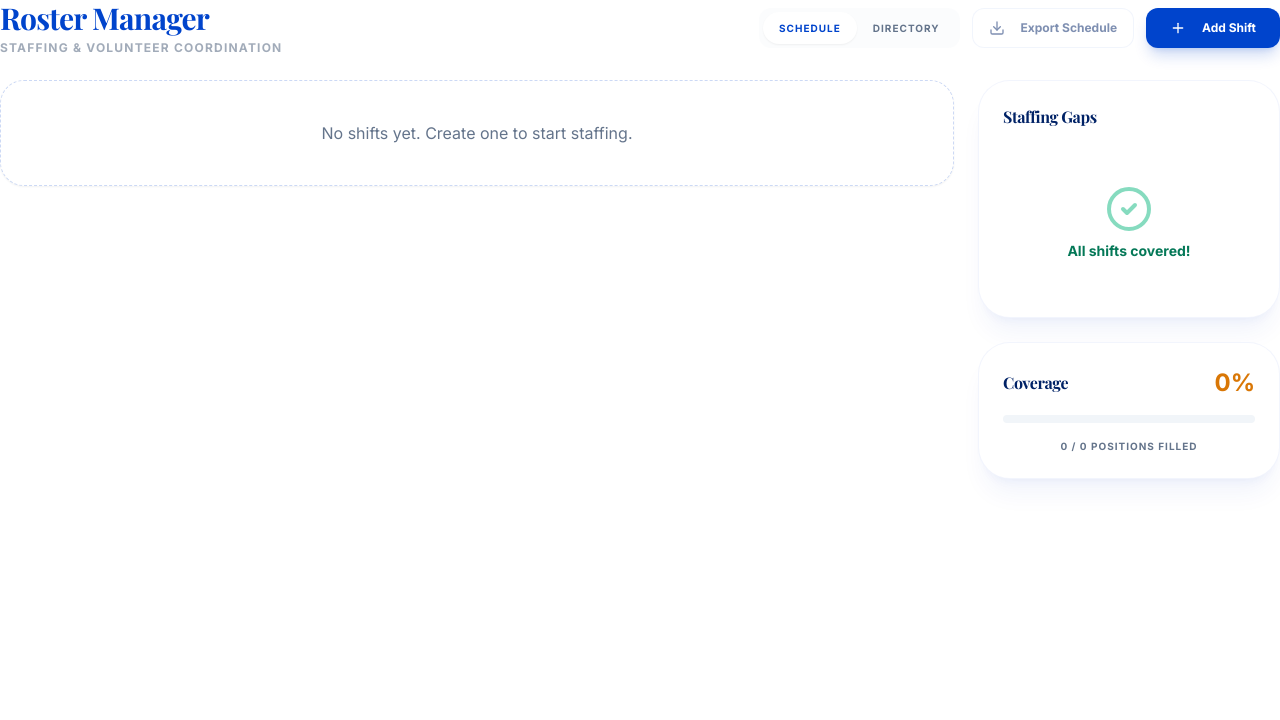
Test: Event Modules Permission Guarding › allows authorized users to create a shift
Later steps or results of the test are not shown.
Step 1. Click the button "Add Shift" → (1213,28), box left=1146, top=8, right=1279, bottom=48
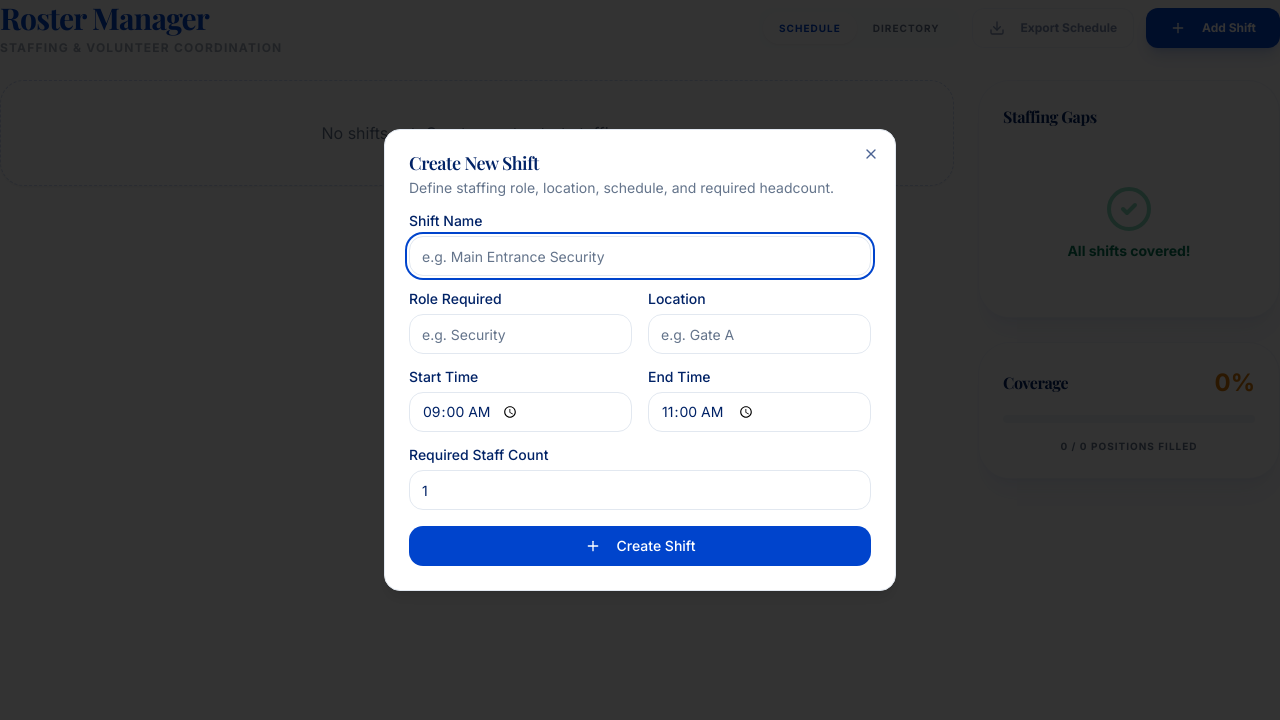
Check: the field named "name" is shown, box left=409, top=236, right=871, bottom=276
Check: the field named "role" is shown, box left=409, top=314, right=632, bottom=354
Check: the field named "location" is shown, box left=648, top=314, right=871, bottom=354
